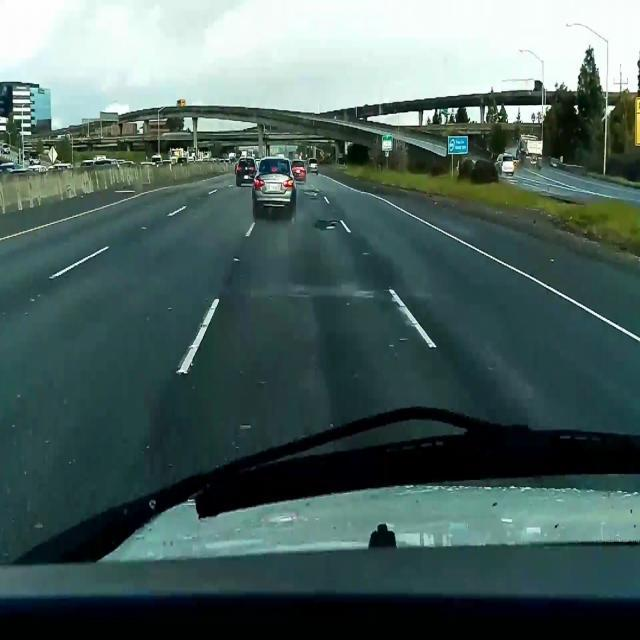Buraco: (302, 189, 320, 197), (326, 220, 338, 229)
